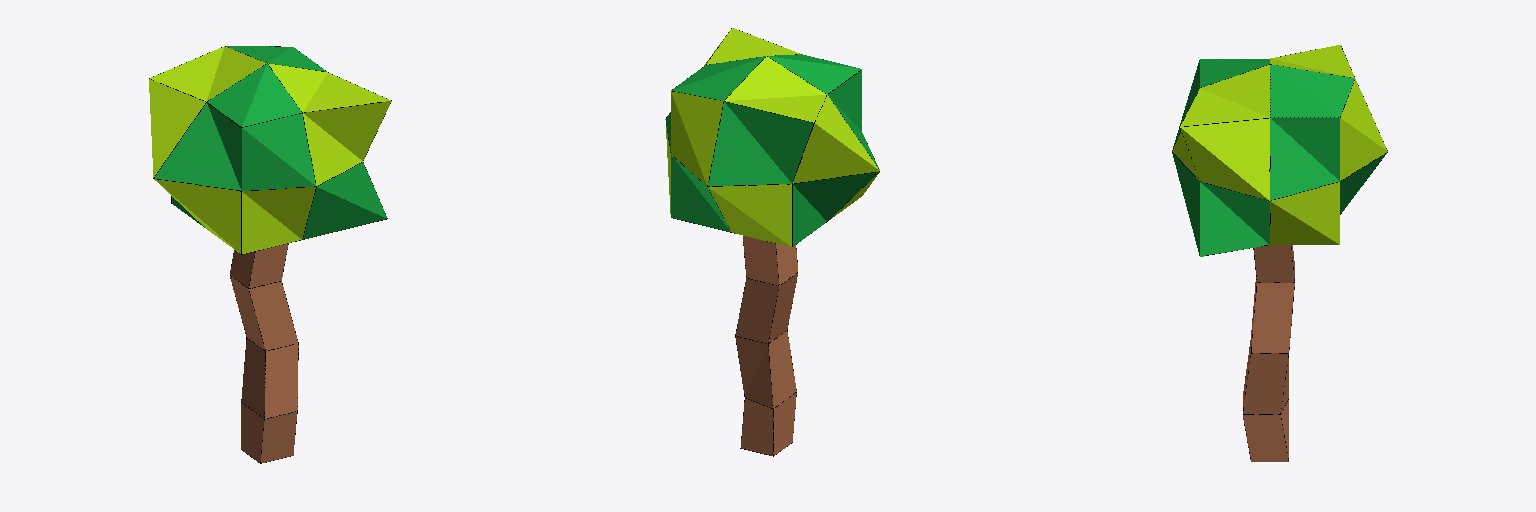
3 views of the same model, side by side, from view 1: azimuth 30°, elevation 25°; view 2: azimuth 150°, elevation 25°; view 3: azimuth 270°, elevation 25° (orthographic).
Parts seen in each view (by area): view 1: Cube_tree_Cube.007; view 2: Cube_tree_Cube.007; view 3: Cube_tree_Cube.007.
Boxes of the visible parts, <box> form: Cube_tree_Cube.007: <box>149,46,391,463</box>; Cube_tree_Cube.007: <box>665,28,879,456</box>; Cube_tree_Cube.007: <box>1172,45,1387,461</box>.
Bounding box in the file's own units: 3.54 × 6.13 × 3.08.
1 materials, 1 textured.